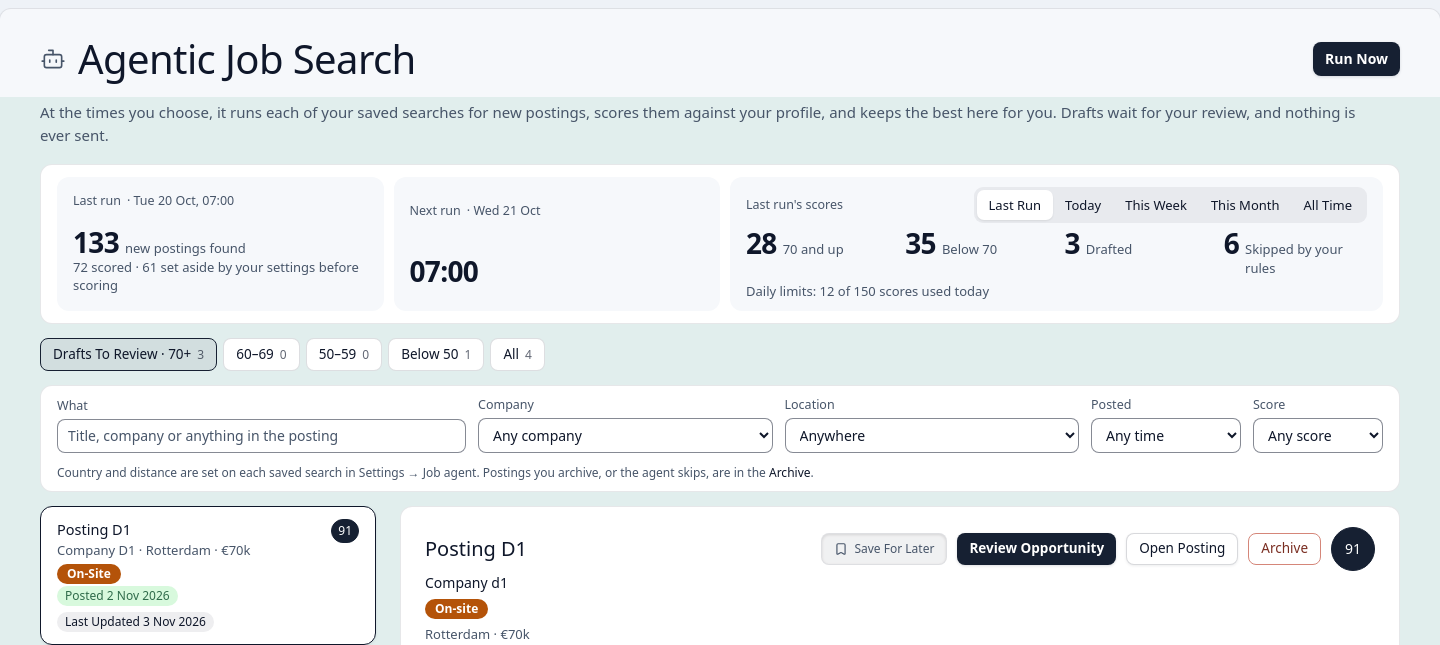
Test case: AgentScreen (E16-6) › switches the tiles between the last run and every run since the first
Click the radio button labelled "All time": (1328, 205) [1292, 190, 1364, 220]
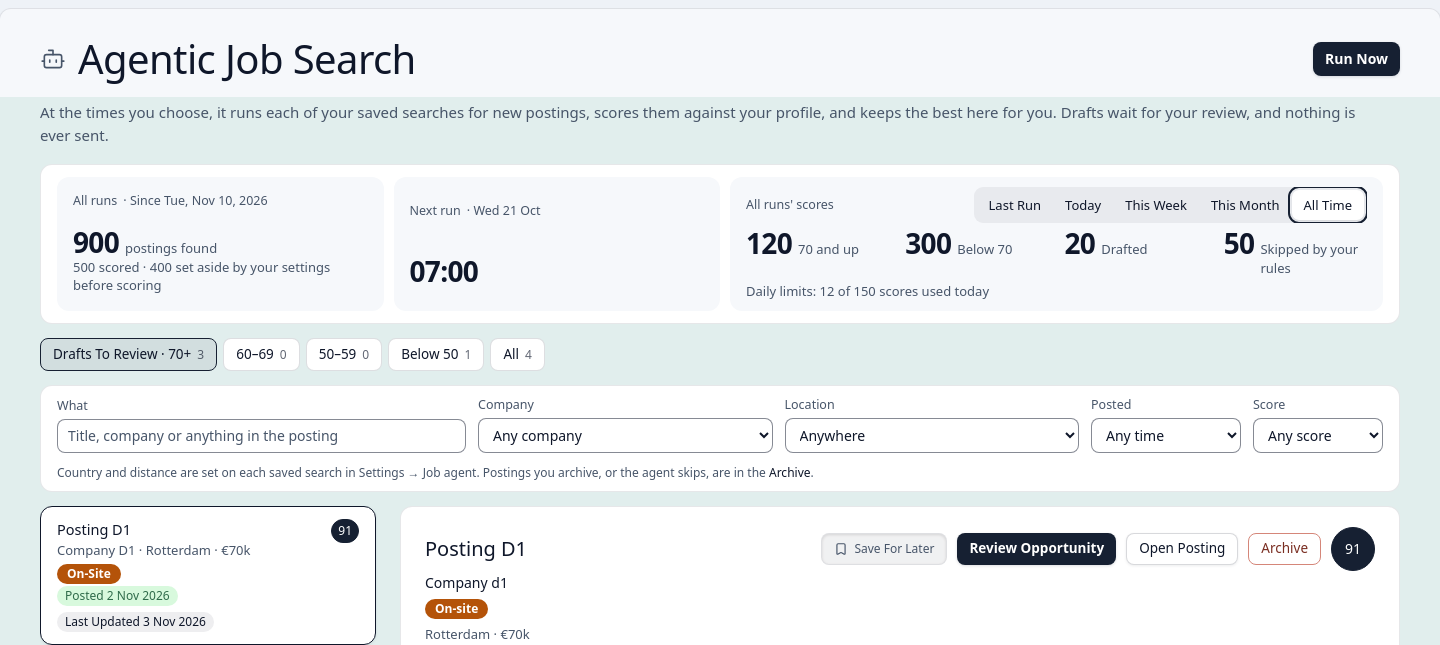
Click the radio button labelled "Last run": (1015, 205) [976, 190, 1053, 220]
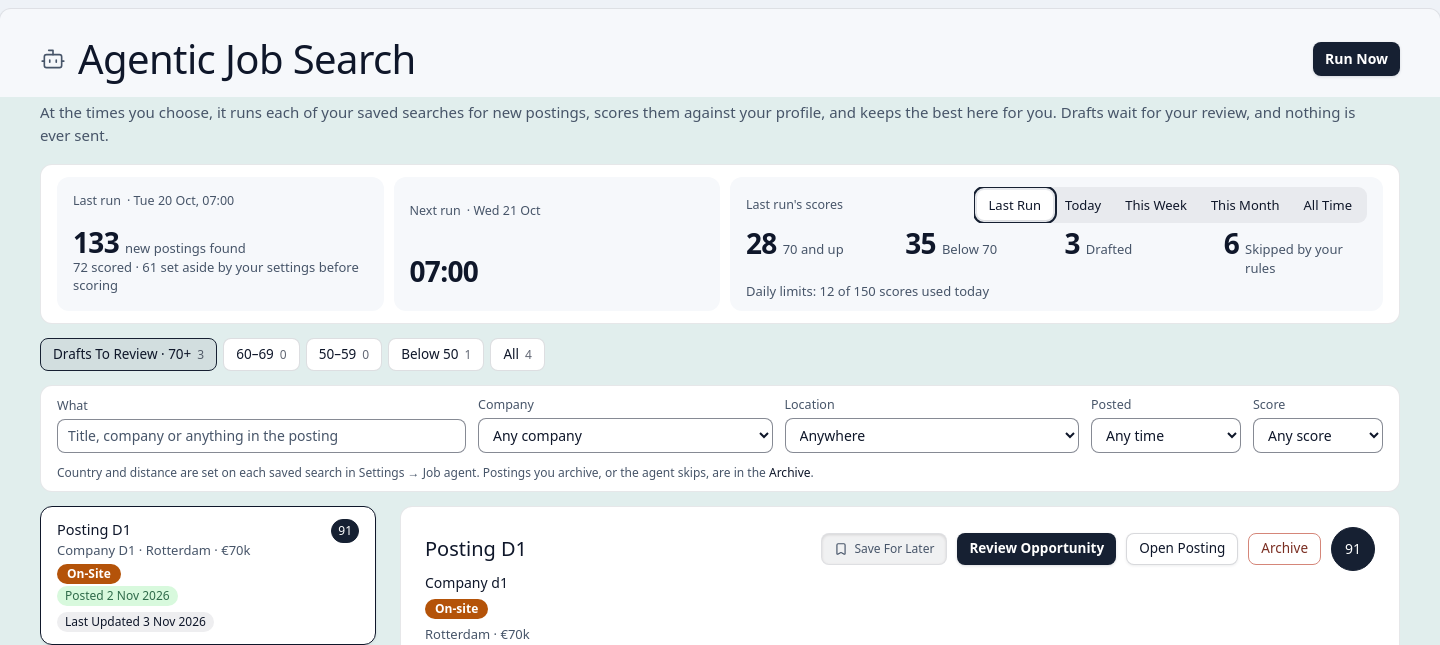
Check: the text "Last run's scores" is shown, box [746, 196, 843, 214]
